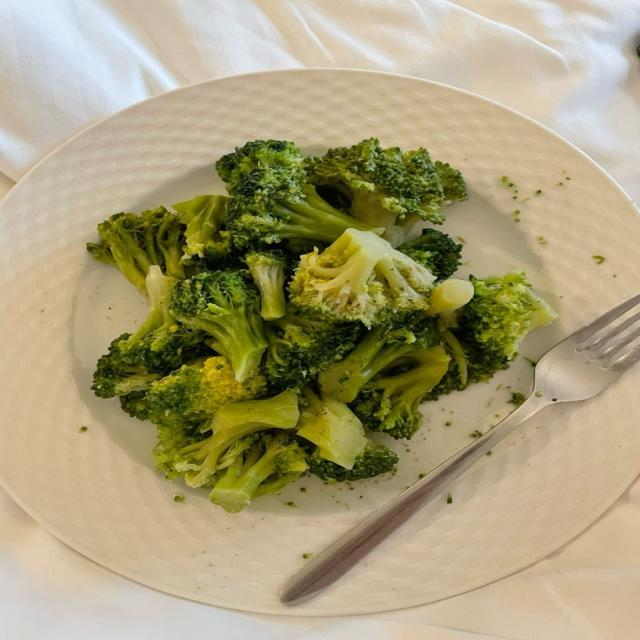broccoli: (216, 141, 373, 246), (428, 272, 557, 398), (308, 138, 467, 239), (92, 265, 210, 397), (290, 229, 435, 326), (156, 391, 299, 487), (228, 170, 381, 246), (171, 271, 266, 381), (319, 317, 437, 402), (351, 346, 449, 439), (456, 272, 557, 362), (87, 207, 184, 294), (140, 356, 266, 422), (264, 306, 360, 388), (210, 432, 308, 512), (298, 387, 368, 469), (216, 140, 306, 198), (92, 335, 162, 398), (173, 195, 233, 268), (308, 443, 398, 482), (243, 250, 291, 320), (397, 228, 462, 279), (428, 278, 473, 328), (119, 391, 149, 420)
